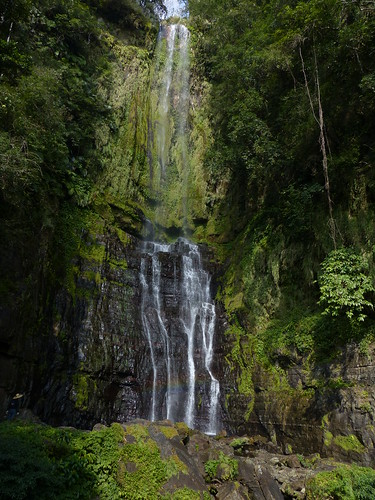wufengciWaterfall: (98, 12, 262, 417)
